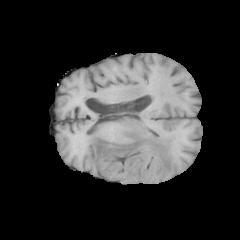glioma: (85, 116, 175, 174)
